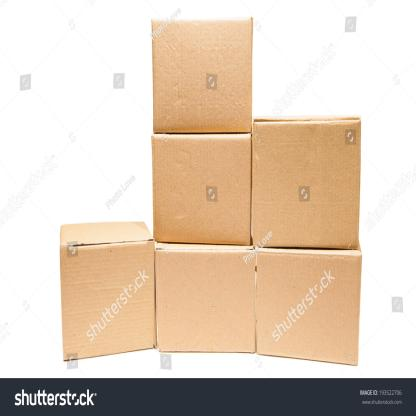box: (252, 119, 360, 248), (257, 246, 363, 365), (151, 17, 253, 136), (60, 237, 155, 361), (152, 132, 252, 244), (156, 251, 256, 352)
